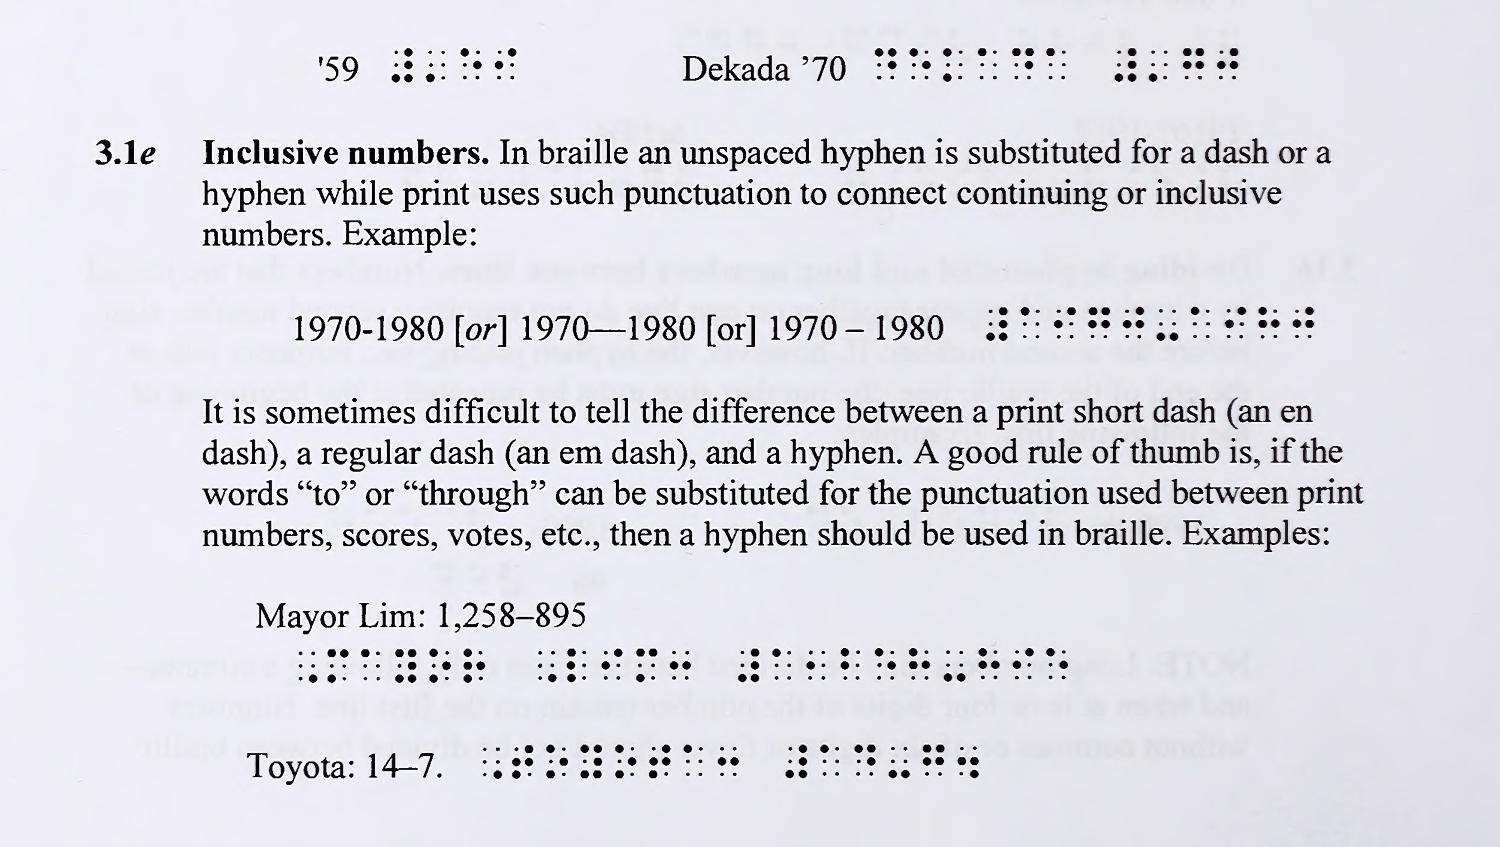capital_sign: (294, 646, 320, 686), (479, 745, 506, 780), (536, 647, 556, 686)
digit_0: (1216, 43, 1240, 81), (1123, 306, 1146, 344), (1293, 306, 1316, 342)
digit_1: (818, 741, 845, 782), (1020, 304, 1043, 343), (771, 647, 794, 684), (1188, 306, 1212, 341)
digit_2: (838, 645, 864, 685)
digit_4: (855, 740, 877, 779)
digit_5: (458, 46, 483, 86), (1045, 647, 1071, 681), (874, 647, 896, 685)
digit_7: (921, 740, 945, 786), (1087, 303, 1111, 342), (1181, 45, 1203, 81)
digit_8: (908, 646, 932, 683), (977, 646, 1001, 682), (1257, 305, 1282, 340)
digit_9: (493, 41, 519, 86), (1053, 305, 1077, 342), (1013, 646, 1035, 683), (1224, 305, 1247, 341)
letter_L: (566, 645, 588, 686)
letter_M: (326, 647, 349, 686)
letter_T: (513, 745, 536, 781)
letter_a: (1044, 46, 1069, 83), (683, 743, 706, 780), (361, 647, 382, 684), (978, 46, 998, 81)
letter_d: (1009, 43, 1038, 86), (875, 47, 897, 83)
letter_e: (909, 44, 931, 83)
letter_i: (600, 646, 624, 685)
letter_k: (941, 44, 963, 83)
letter_m: (635, 647, 657, 682)
letter_o: (546, 743, 570, 782), (428, 647, 450, 686), (615, 745, 639, 781)
letter_r: (462, 646, 487, 688)
letter_t: (649, 744, 673, 782)
letter_y: (395, 647, 419, 686), (579, 743, 603, 779)
number_sign: (388, 43, 415, 83), (1115, 43, 1138, 83), (784, 743, 809, 781), (738, 647, 761, 686), (985, 304, 1009, 342)
